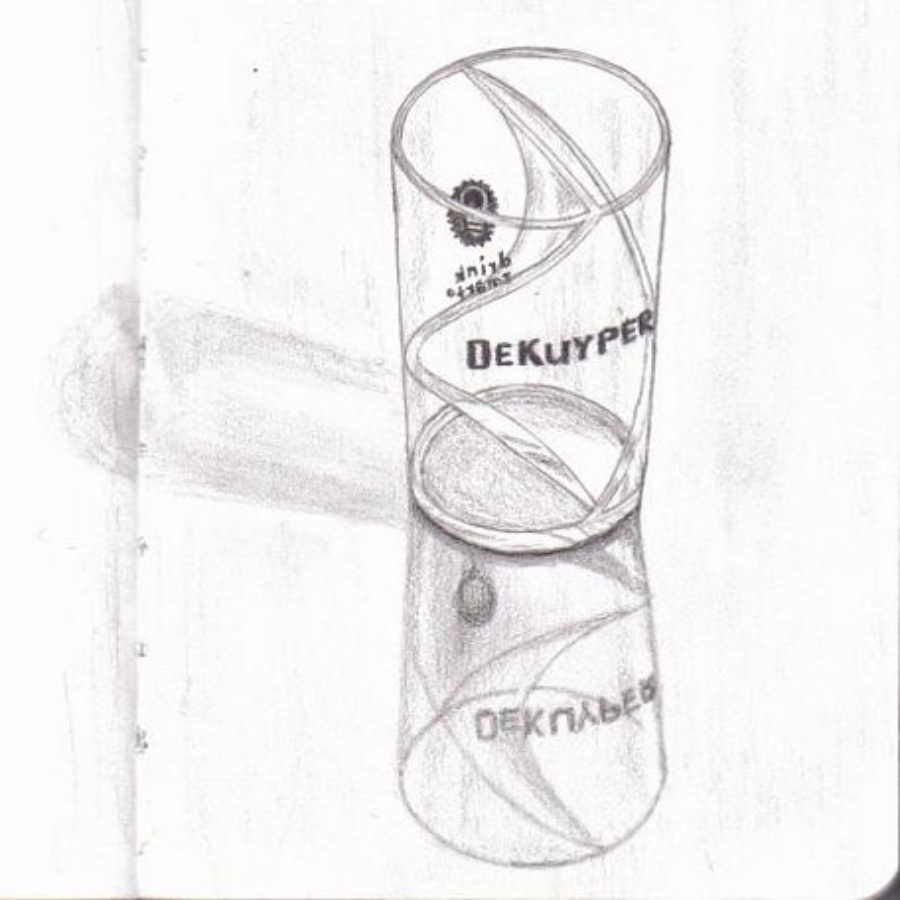whiskey: (367, 26, 678, 565)
